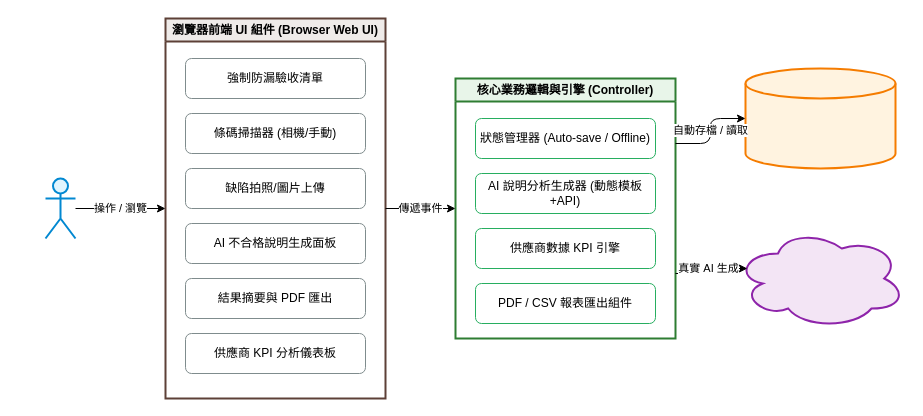
Some shapes in this 923 by 416 pixel diagram are drawn without their labels. Each missing label, with the centre of its shape:
"外部 Gemini AI API (選用，需要 API Key)" goes at point 820,278.
"本地資料儲存 (Browser LocalStorage) [歷史單據、圖片、統計]" goes at point 820,118.
"驗收人員 (User)" goes at point 60,208.
